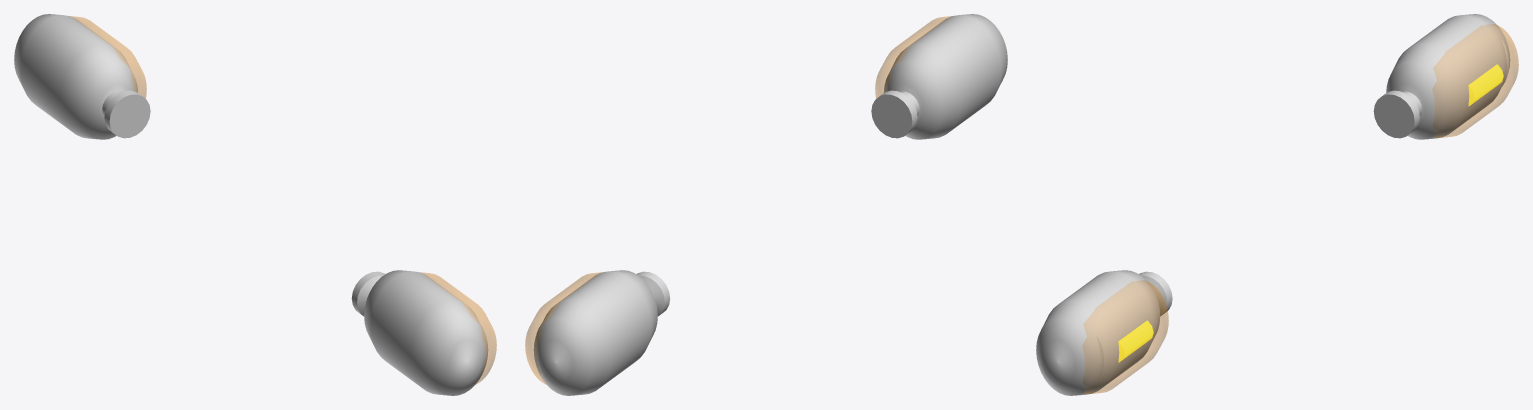
Rendered from chrome_short.glb.
3 renders of one model, left to right at view 1: azimuth 30°, elevation 25°; view 2: azimuth 150°, elevation 25°; view 3: azimuth 330°, elevation 25°, orthographic.
Visible parts, largest first — view 1: indicators_front_chrome_short; view 2: indicators_front_chrome_short; view 3: indicators_front_chrome_short.
Part boxes in pixels (x1,y1,x2,y2): indicators_front_chrome_short: [14, 14, 496, 395]; indicators_front_chrome_short: [525, 14, 1007, 395]; indicators_front_chrome_short: [1036, 14, 1518, 395].
Bounding box in the file's own units: 0.0356 × 0.039 × 0.328.
